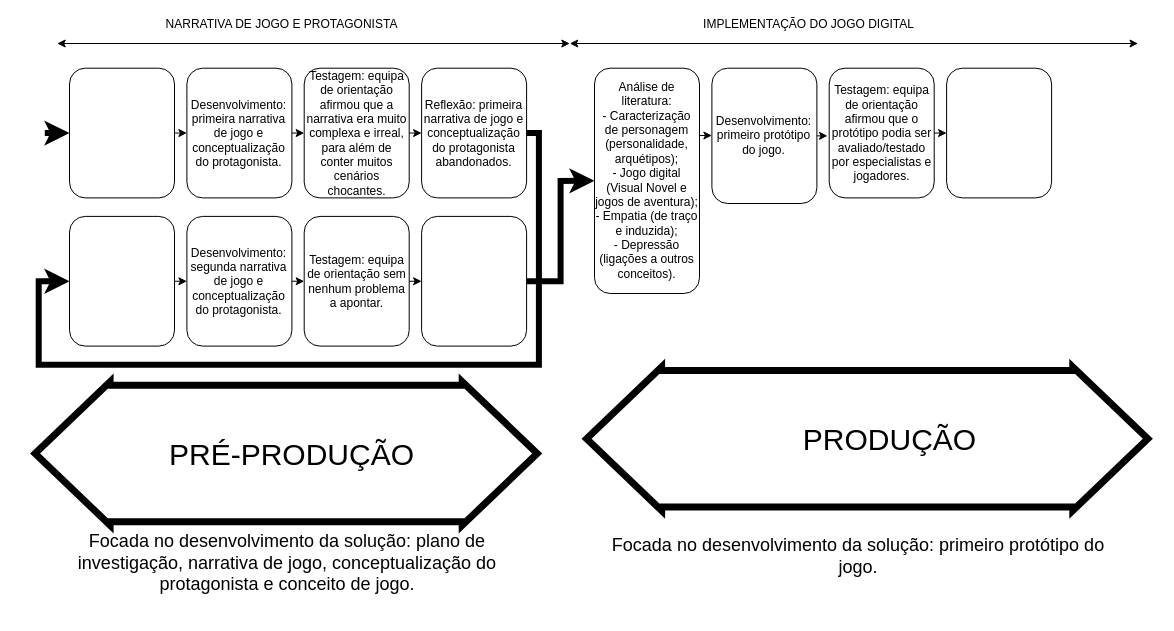
Some shapes in this 1174 by 631 pixel diagram are drawn without their labels. The shapes that lost their labels are listed below. From the top down, each one's centre as x and y in pixels, then its label:
the point at 121,132: Análise de literatura: - Caracterização de personagem; - Jogo digital.
the point at 999,132: Reflexão: primeira versão do jogo aceite.
the point at 121,280: Análise de literatura: - Caracterização de personagem; - Depressão.
the point at 474,280: Reflexão: segunda narrativa de jogo e conceptualização do protagonista aceites.
